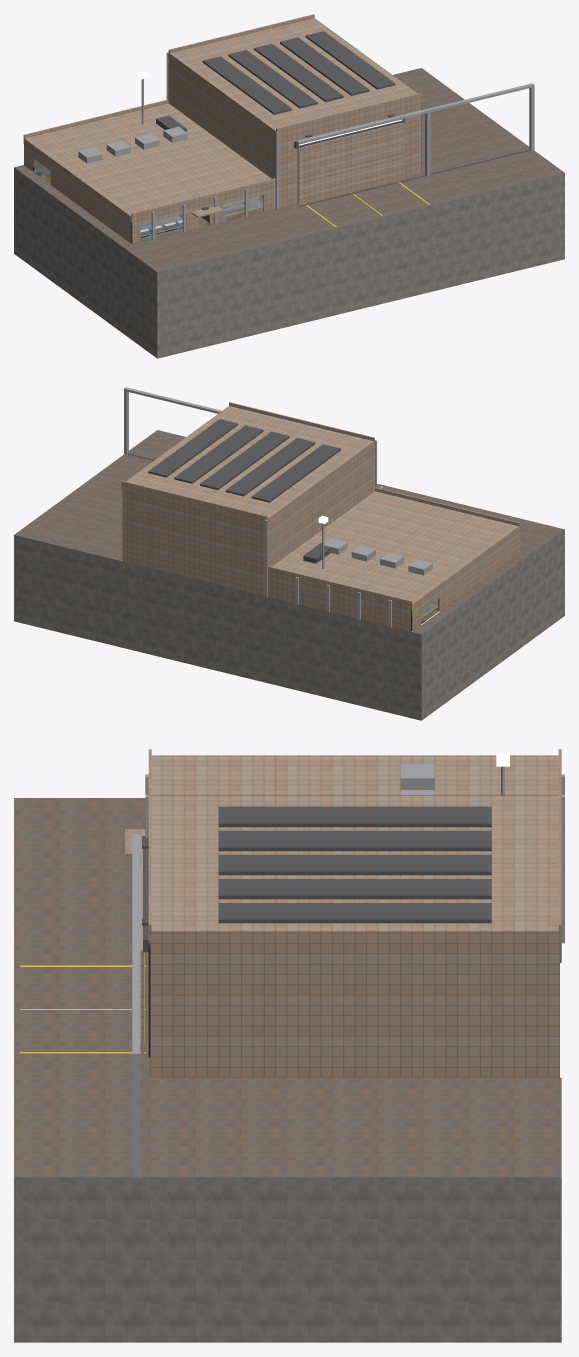
Rendered from mf-annex.glb.
3 renders of one model, top to bottom at view 1: azimuth 30°, elevation 25°; view 2: azimuth 150°, elevation 25°; view 3: azimuth 270°, elevation 25°, orthographic. The views are drawn at different scales.
Visible parts, largest first — view 1: mf_ext, mf_hangar_door, mf_int, mf_glass_panes; view 2: mf_ext; view 3: mf_ext, mf_hangar_door.
Part boxes in pixels (x1,y1,x2,y2): mf_ext: [14, 14, 564, 358]; mf_hangar_door: [297, 122, 403, 204]; mf_int: [33, 158, 263, 243]; mf_glass_panes: [33, 159, 263, 236]; mf_ext: [14, 387, 564, 720]; mf_ext: [14, 749, 564, 1342]; mf_hangar_door: [140, 851, 144, 1057].
Bounding box in the file's own units: 141 × 54.82 × 86.24.
8 materials, 3 textured.
